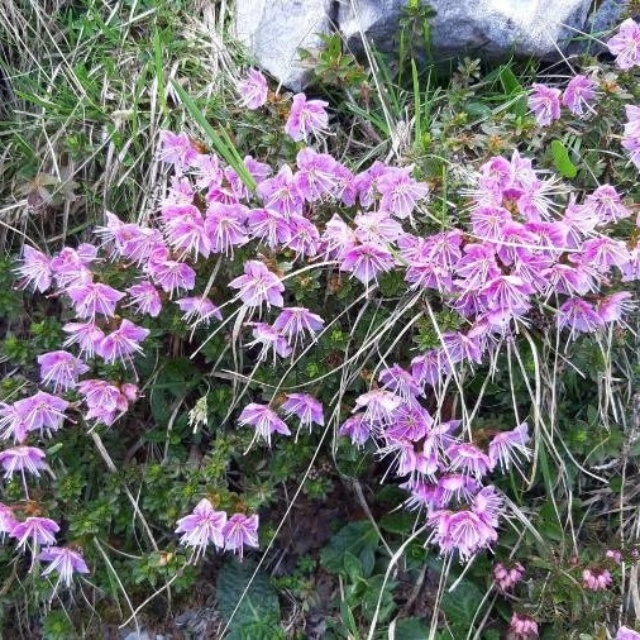obstacle: (25, 75, 560, 539)
